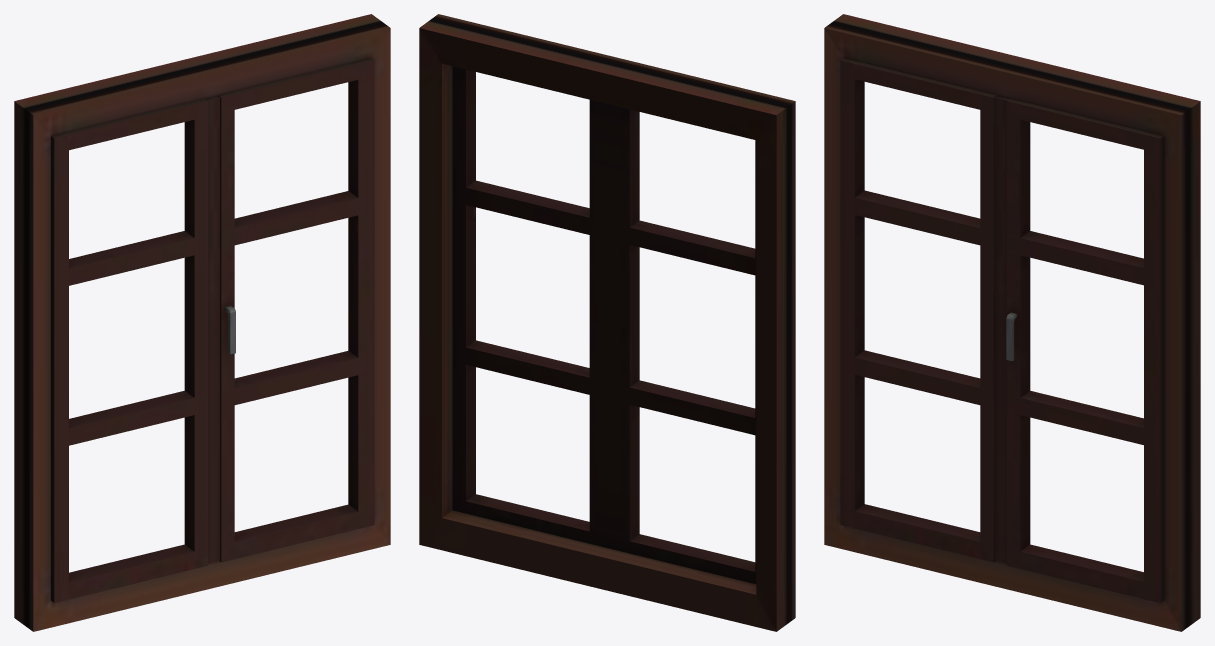
Rendered from Fenetre.fbx.
The picture shows the model from 3 angles, left to right: view 1: azimuth 30°, elevation 25°; view 2: azimuth 150°, elevation 25°; view 3: azimuth 330°, elevation 25°; orthographic projection.
Visible parts, largest first — view 1: Plane.001; view 2: Plane.001; view 3: Plane.001.
Boxes of the visible parts, bbox=[...] form: Plane.001: bbox=[14, 14, 390, 631]; Plane.001: bbox=[419, 14, 795, 631]; Plane.001: bbox=[824, 14, 1200, 631].
Bounding box in the file's own units: 217 × 300 × 28.
Materials: 1 (1 with a texture image).
